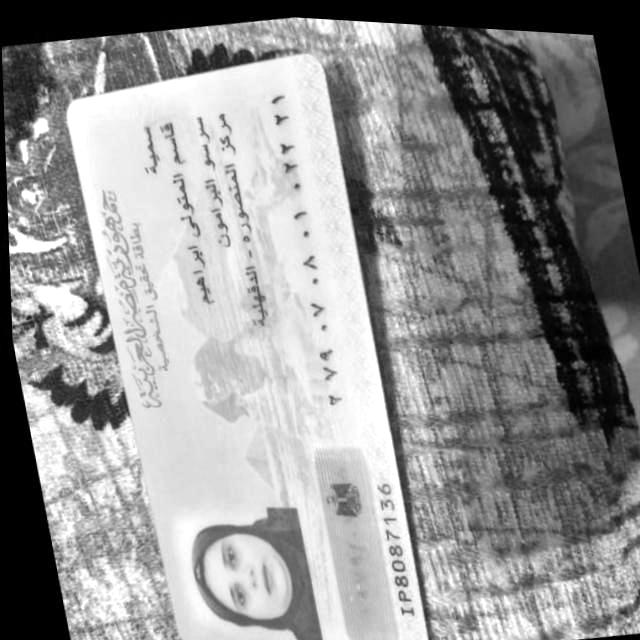id_card: (67, 55, 426, 639)
